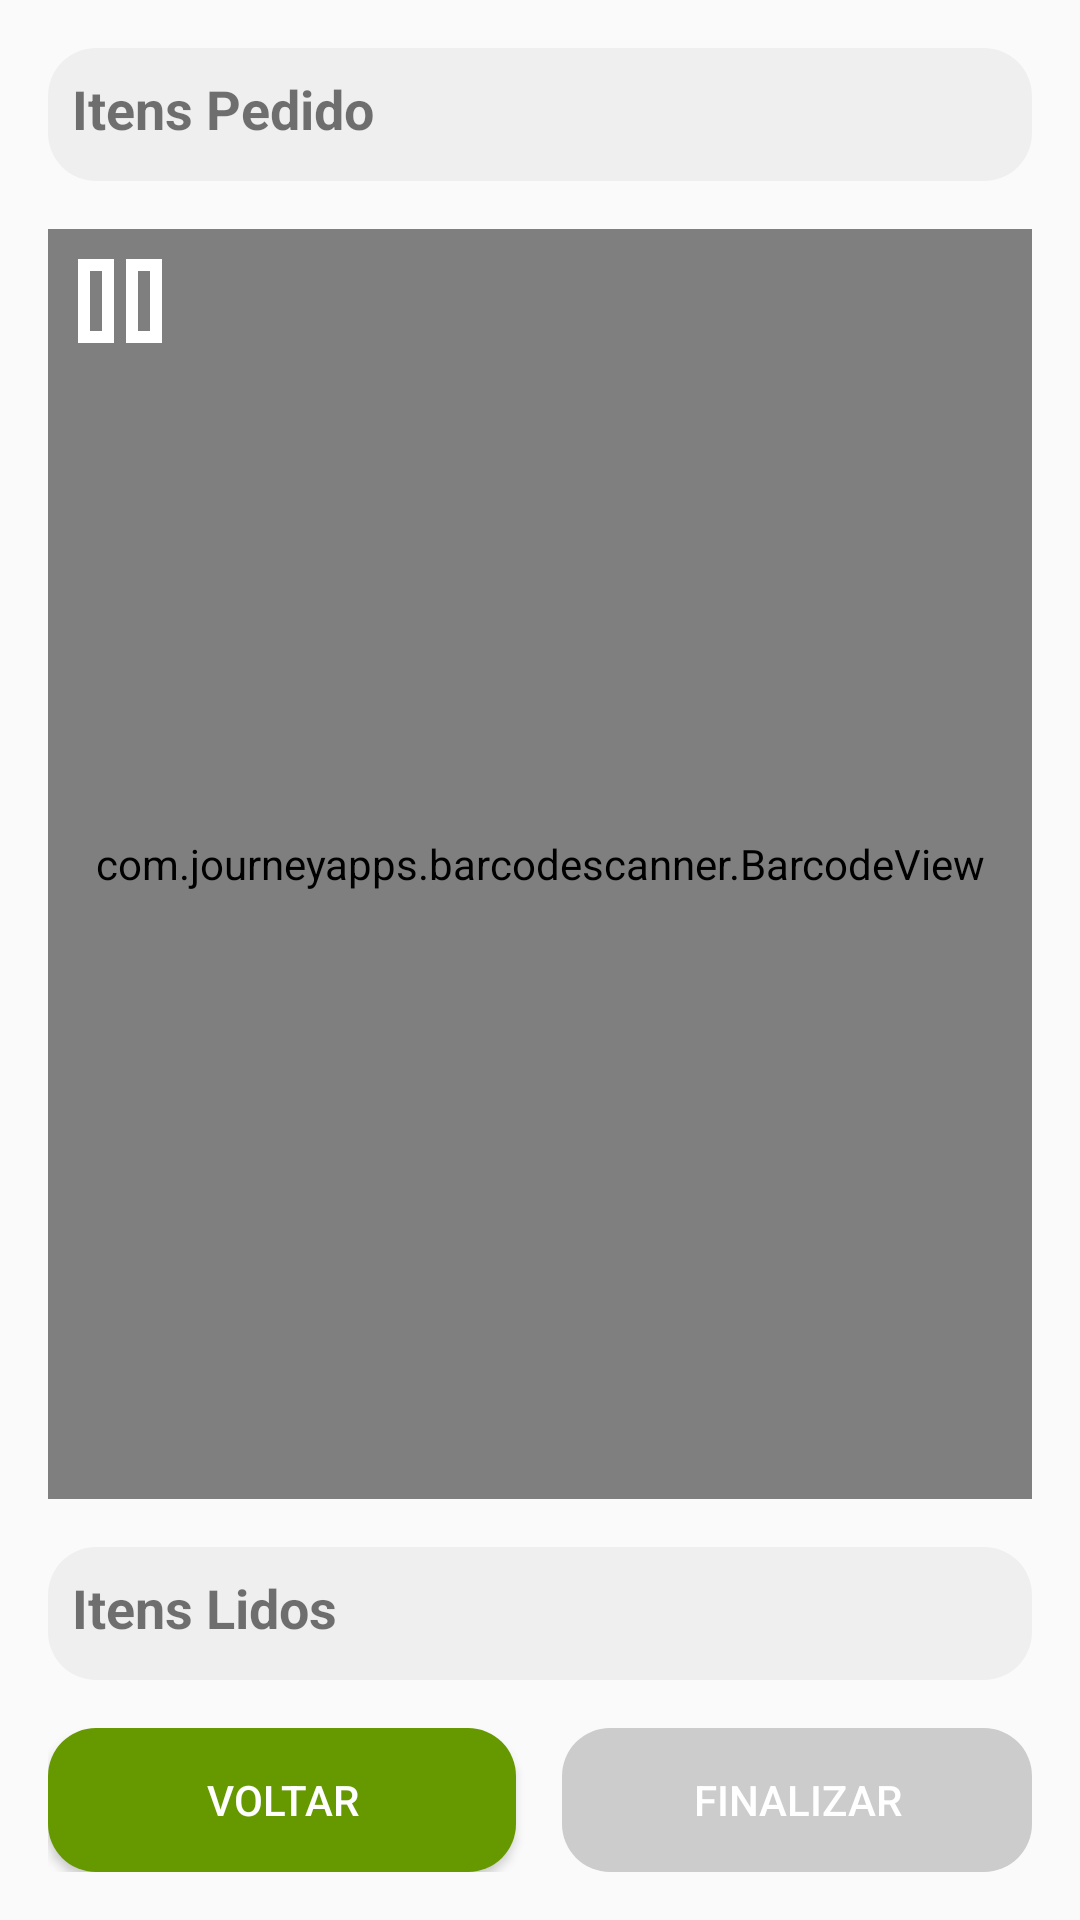

Locate icon controls on the screen. Image size 1080px x 1920px, boxes as (x1, y1, x2, y2).
Scanner Paused: (78, 259, 162, 343)
